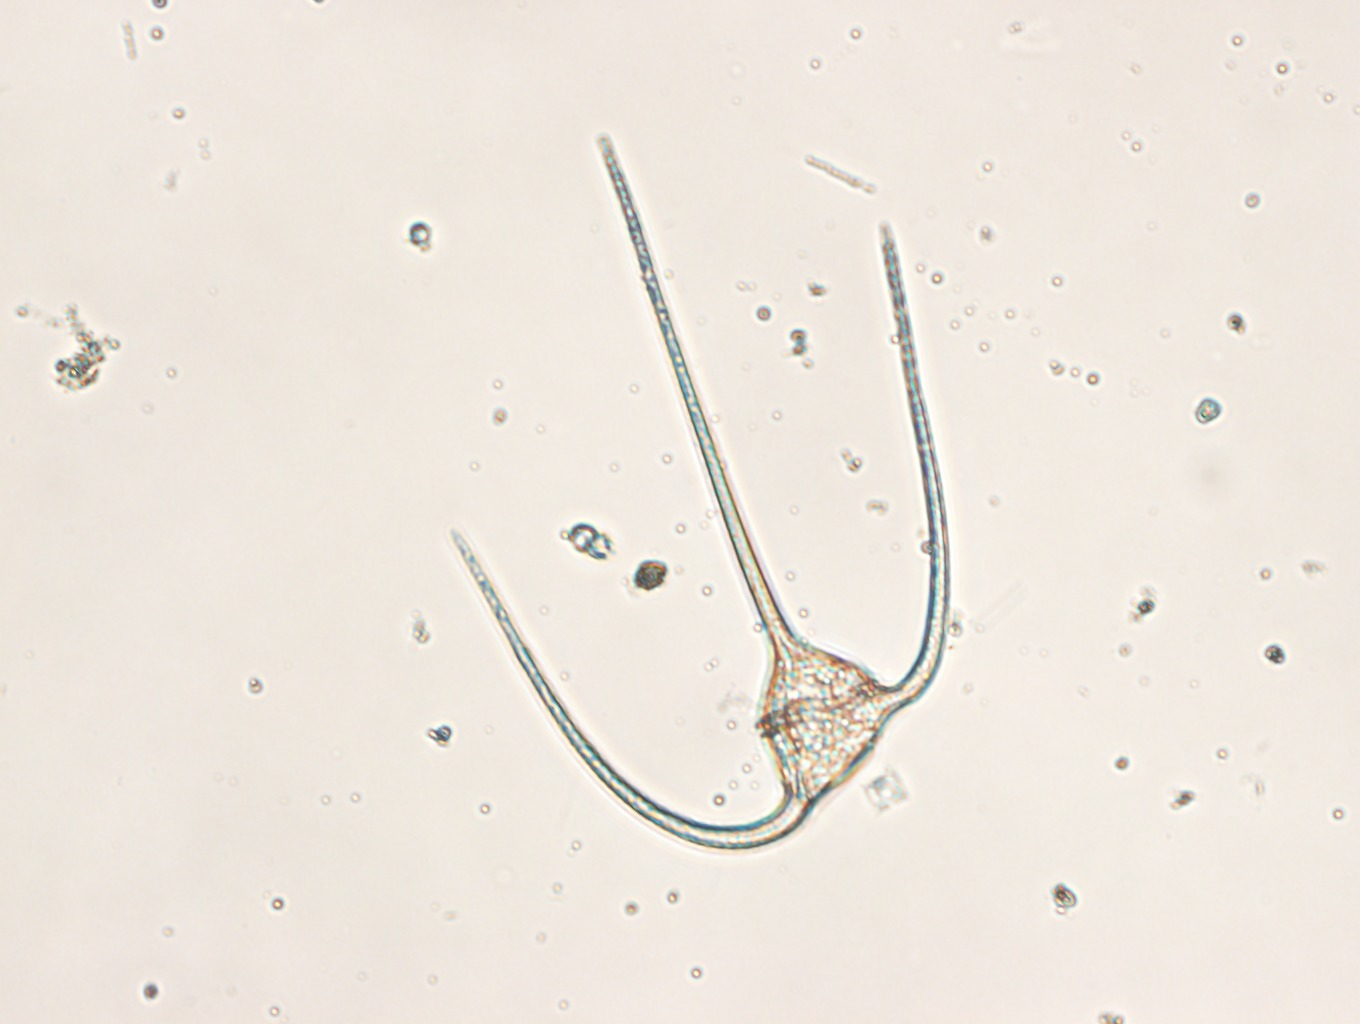ceratium trichoceros: (449, 132, 949, 850)
